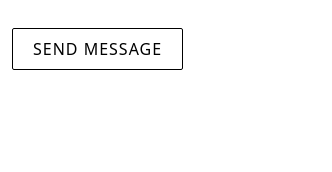
Test case: StartChatButton › sends a logged-out visitor to the login page
The image size is (332, 172).
Click the button "Send message": (98, 49) [12,28,183,70]
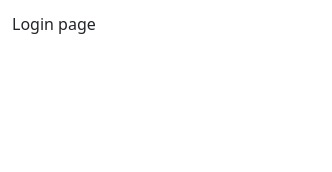
Now the text "Login page" is shown, box [12,13,96,35]
